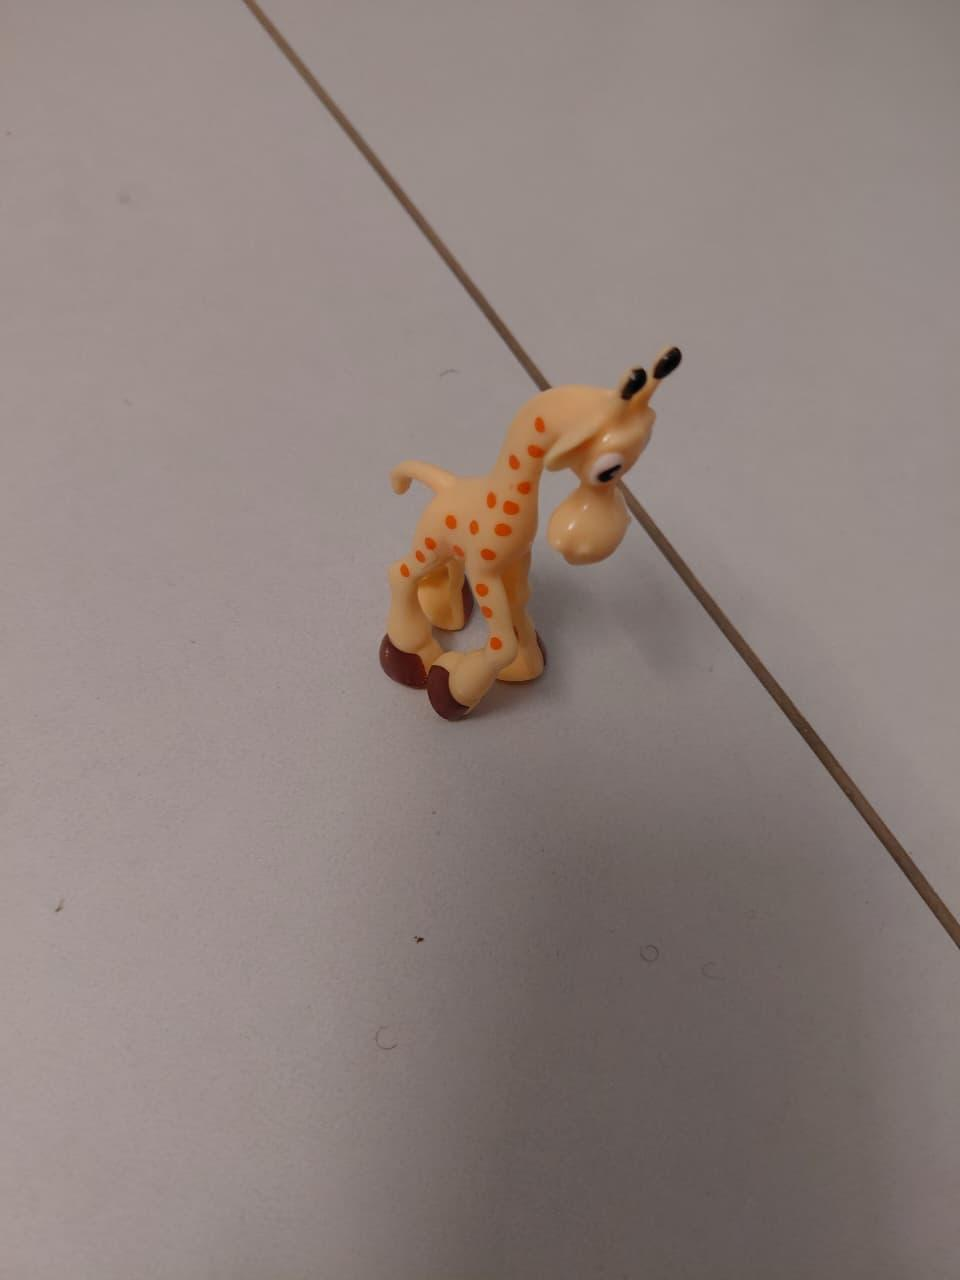giraffe: (333, 305, 740, 826)
